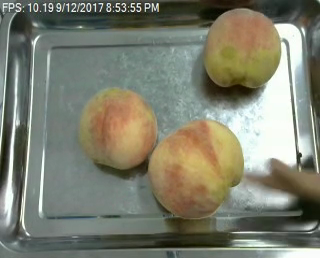Peach: (147, 118, 243, 218), (78, 87, 159, 170), (202, 7, 282, 90)
